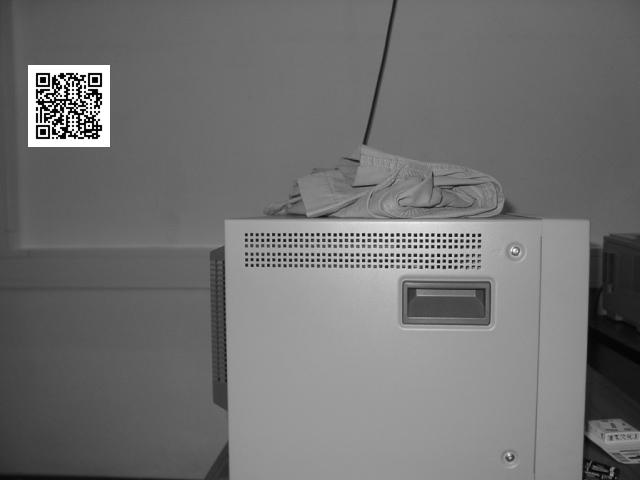qr_code: (28, 65, 110, 146)
